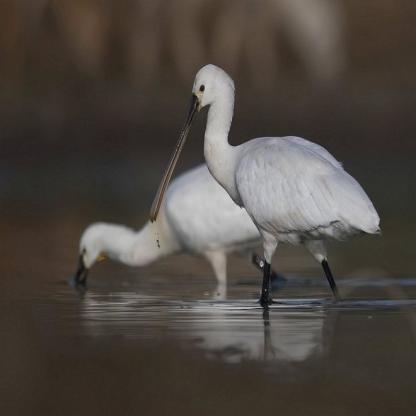Burung: (147, 63, 382, 304), (72, 161, 268, 286)
